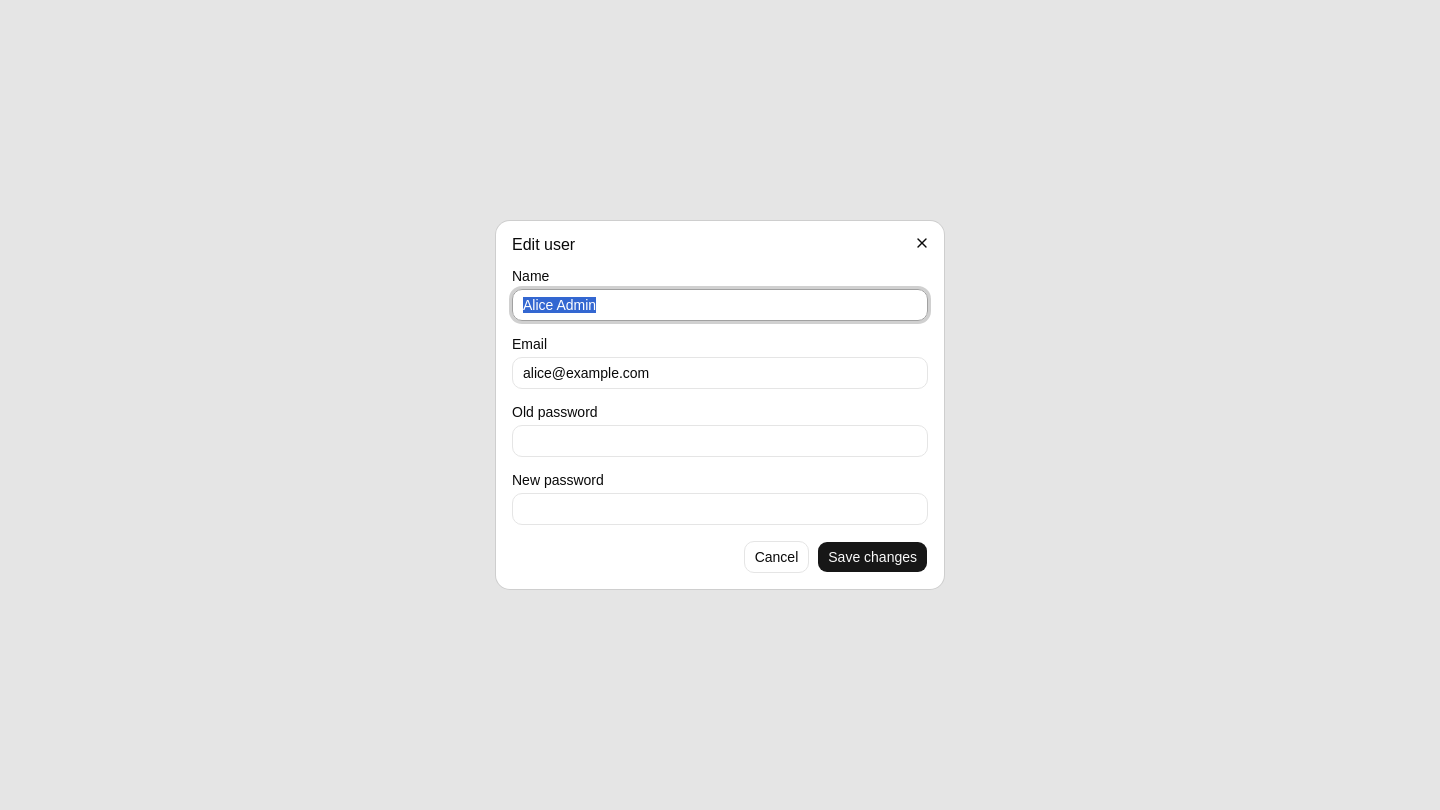
Test: EditUserDialog › shows validation error for invalid email
Replace the text in the field labelled "Email" with "not-an-email" at (720, 373), box [512,357,928,389]
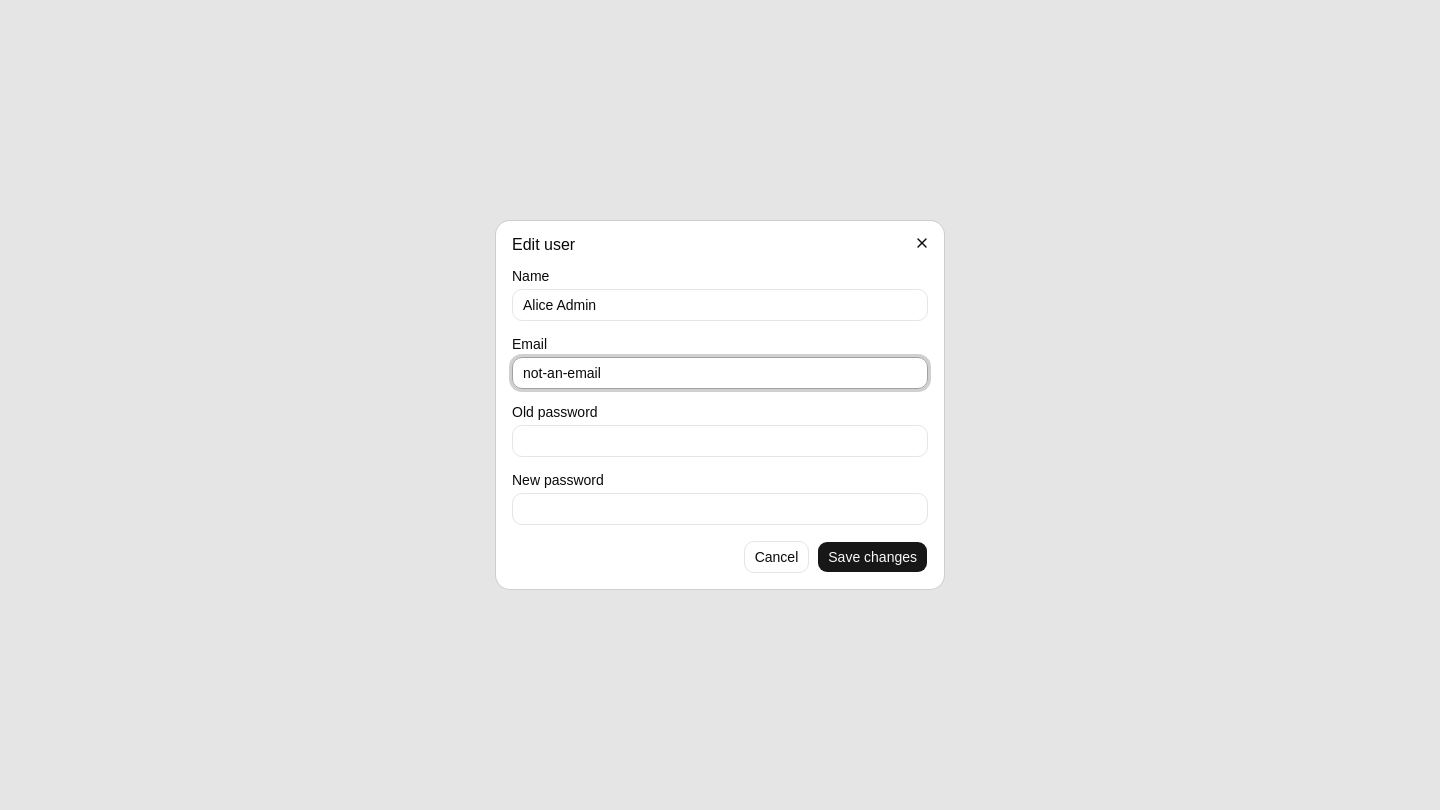
Click the button "Save changes" at (873, 557), box [817,541,928,573]
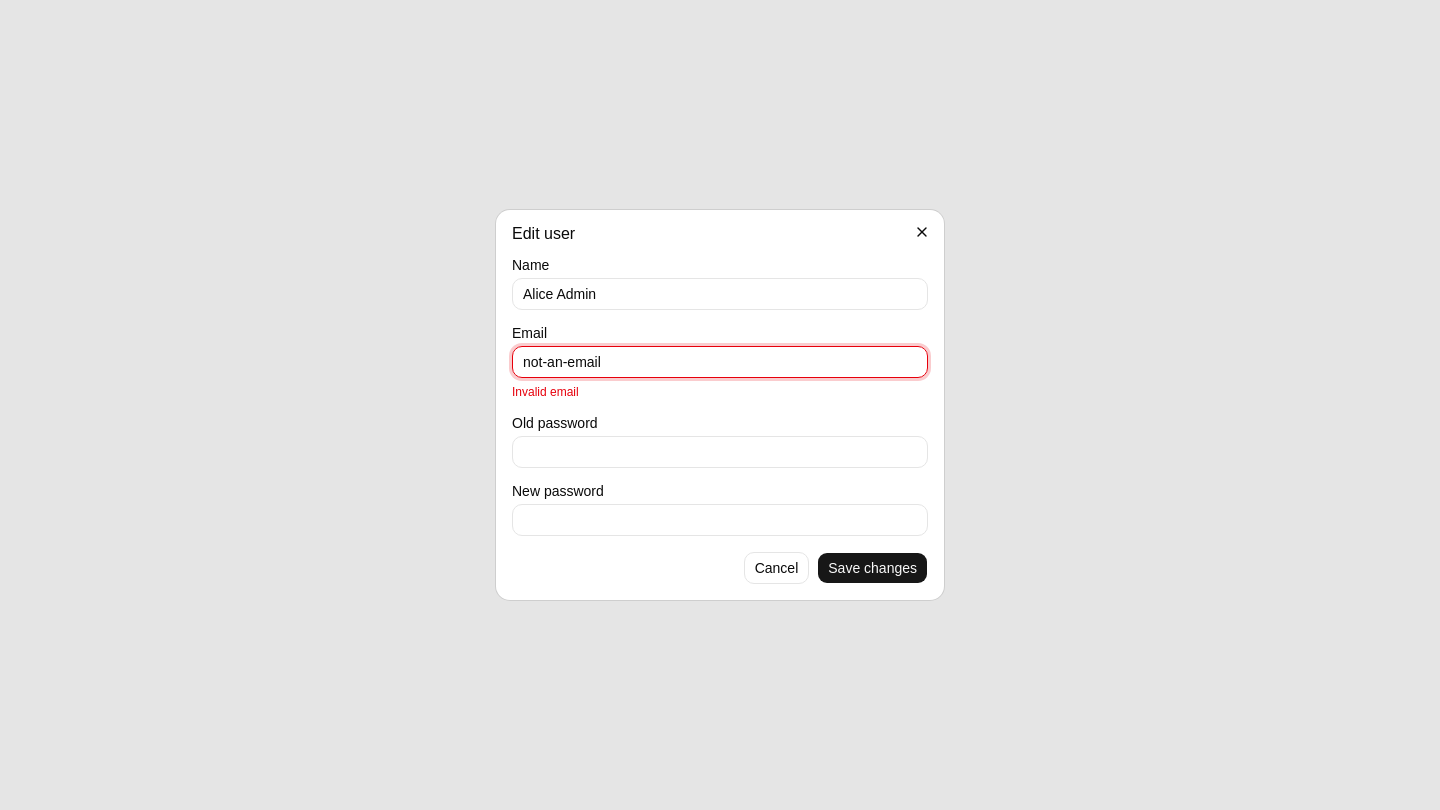
Check: the text "Invalid email" is shown, box [512,385,579,399]
